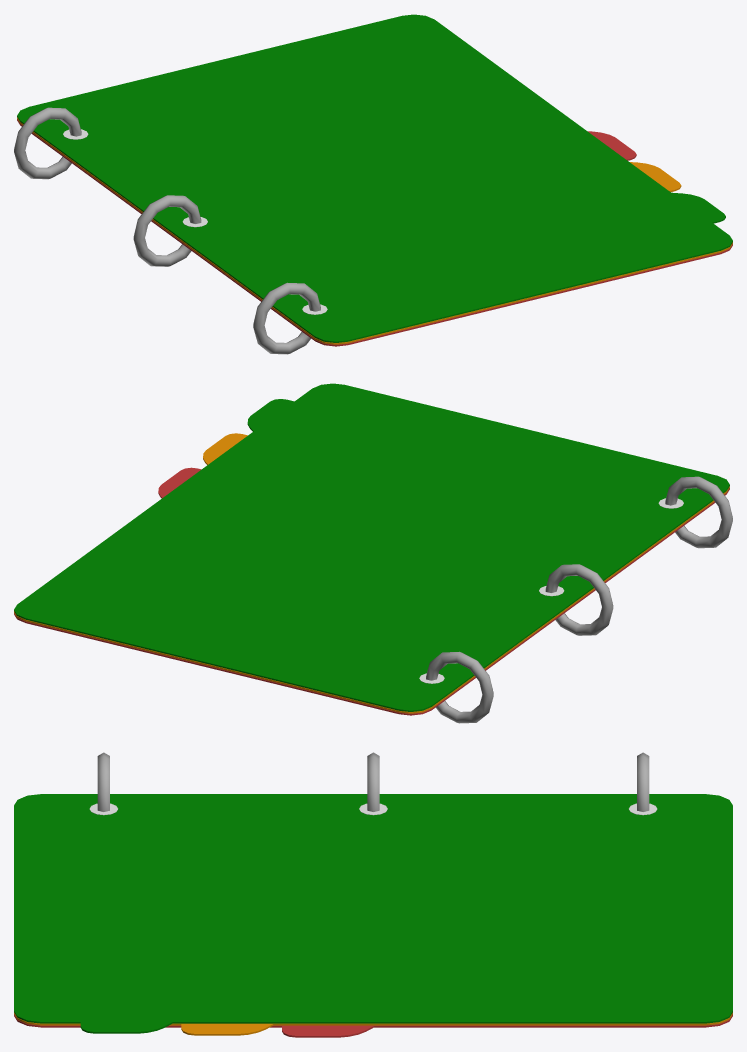
Rendered from goutongben.fbx.
3 views of the same model, one above another, from view 1: azimuth 30°, elevation 25°; view 2: azimuth 150°, elevation 25°; view 3: azimuth 270°, elevation 25° (orthographic). The views are drawn at different scales.
Visible parts, largest first — view 1: goutongben, goutongben_tiehuan; view 2: goutongben, goutongben_tiehuan; view 3: goutongben, goutongben_tiehuan.
Boxes of the visible parts, box(x1,y1,x2,y2) form: goutongben: box(17, 14, 732, 346); goutongben_tiehuan: box(14, 107, 320, 354); goutongben: box(14, 383, 729, 715); goutongben_tiehuan: box(426, 476, 732, 723); goutongben: box(14, 794, 732, 1037); goutongben_tiehuan: box(97, 752, 649, 811).
Size of the model in its own units: 16.9 by 2.48 by 20.
